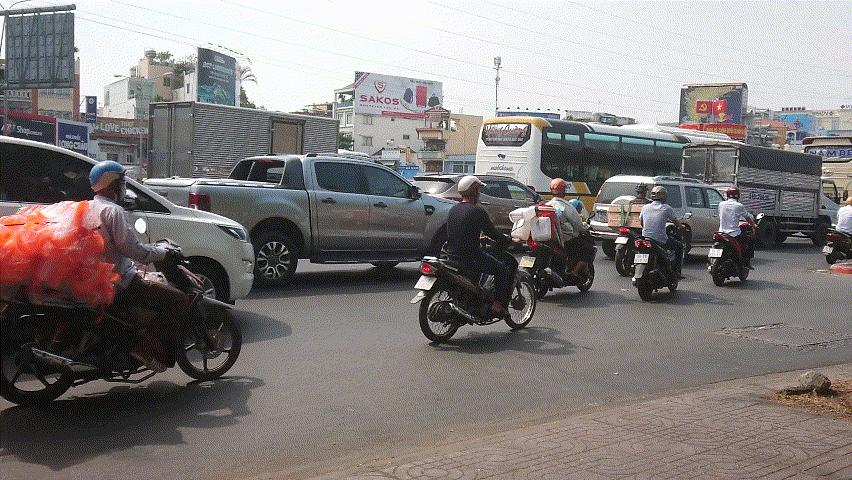driver: (1, 158, 241, 407), (410, 173, 537, 343), (508, 177, 597, 301), (632, 185, 692, 302), (707, 186, 765, 286), (821, 196, 852, 264)
helmet: (86, 159, 130, 205), (456, 175, 487, 203), (549, 177, 570, 199), (650, 186, 669, 204), (569, 199, 585, 214), (727, 186, 741, 201)
